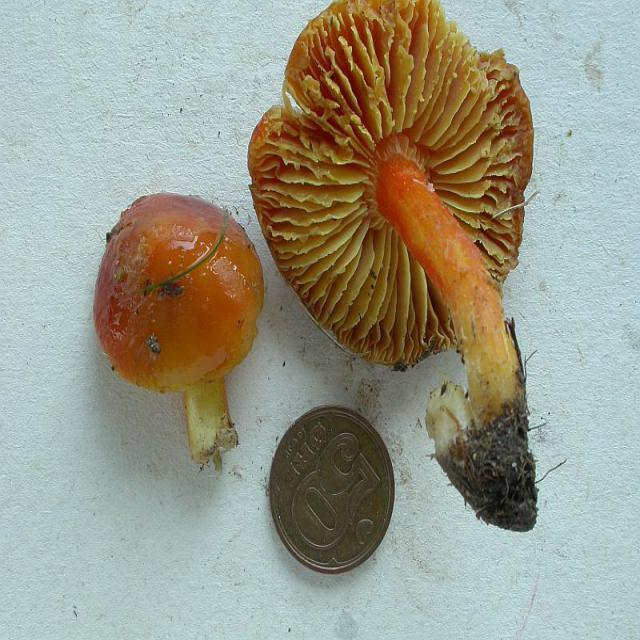Cantharellus cibarius: (250, 0, 538, 531), (97, 192, 263, 456)
